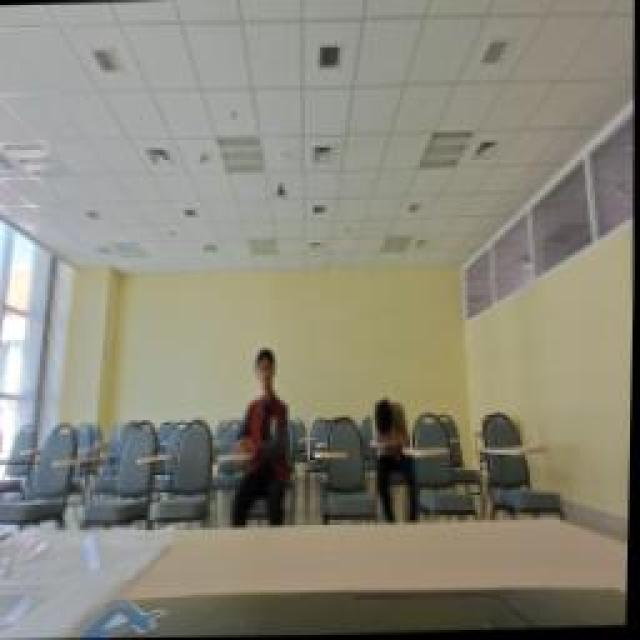sleep: (370, 400, 412, 445)
study: (238, 348, 292, 450)
